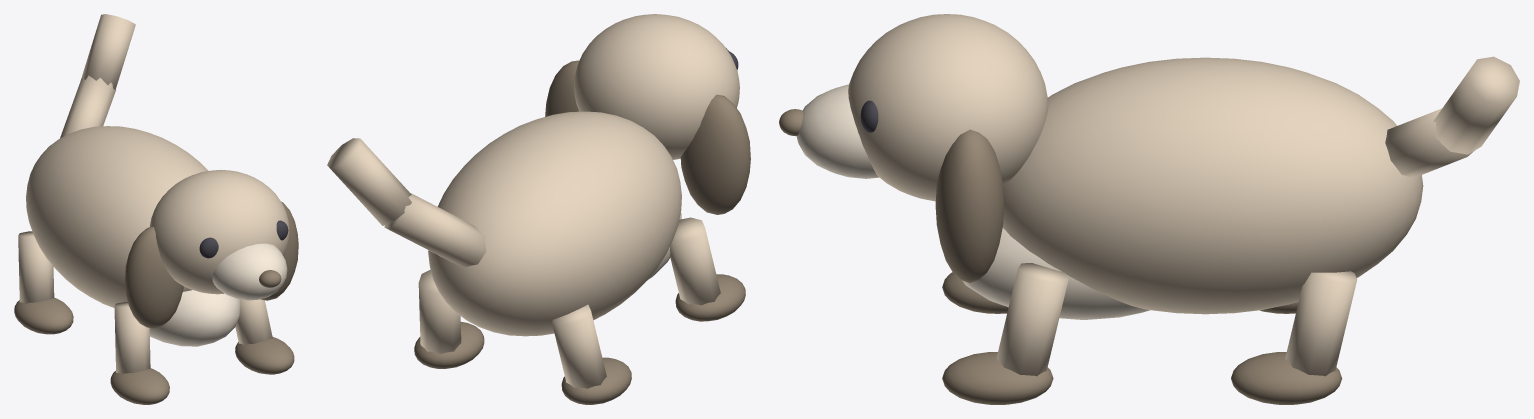
File: dog-labrador.glb
3 views of the same model, side by side, from view 1: azimuth 30°, elevation 25°; view 2: azimuth 150°, elevation 25°; view 3: azimuth 270°, elevation 25° (orthographic). The views are drawn at different scales.
Parts seen in each view (by area): view 1: material_c1a27e, material_483929, material_e1c9a9, material_100f13; view 2: material_c1a27e, material_483929; view 3: material_c1a27e, material_483929, material_e1c9a9.
Part boxes in pixels (box(x1,y1,x2,y2)): material_c1a27e: box(18, 14, 289, 373); material_483929: box(14, 201, 298, 404); material_e1c9a9: box(149, 243, 287, 346); material_100f13: box(199, 220, 288, 258); material_c1a27e: box(327, 14, 739, 388); material_483929: box(414, 47, 750, 404); material_c1a27e: box(848, 14, 1519, 376); material_483929: box(779, 109, 1342, 404); material_e1c9a9: box(796, 84, 1149, 319).
Size of the model in its own units: 0.6191 by 0.7587 by 1.46.
